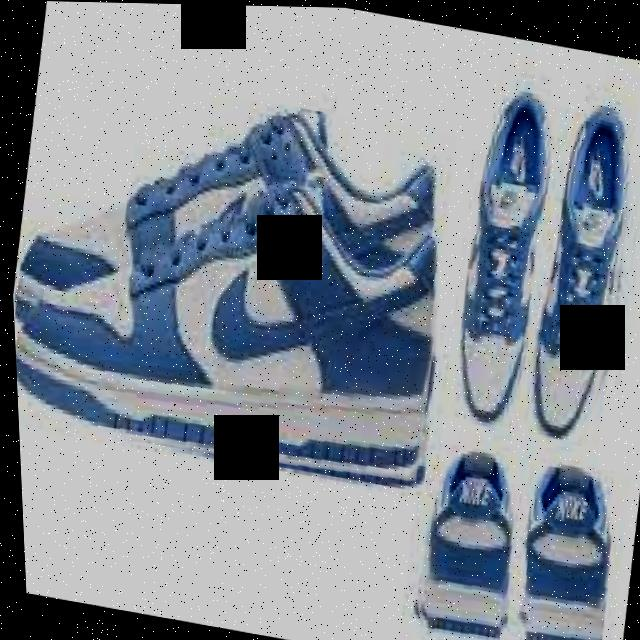shoe: (2, 62, 474, 501), (435, 84, 640, 446), (397, 437, 622, 640)
